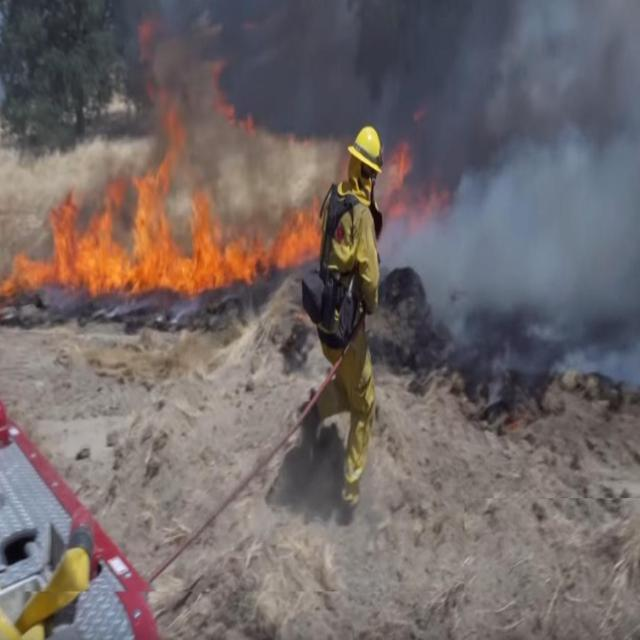Fire: (0, 117, 319, 296), (381, 140, 448, 210)
Smoke: (454, 0, 640, 384)
